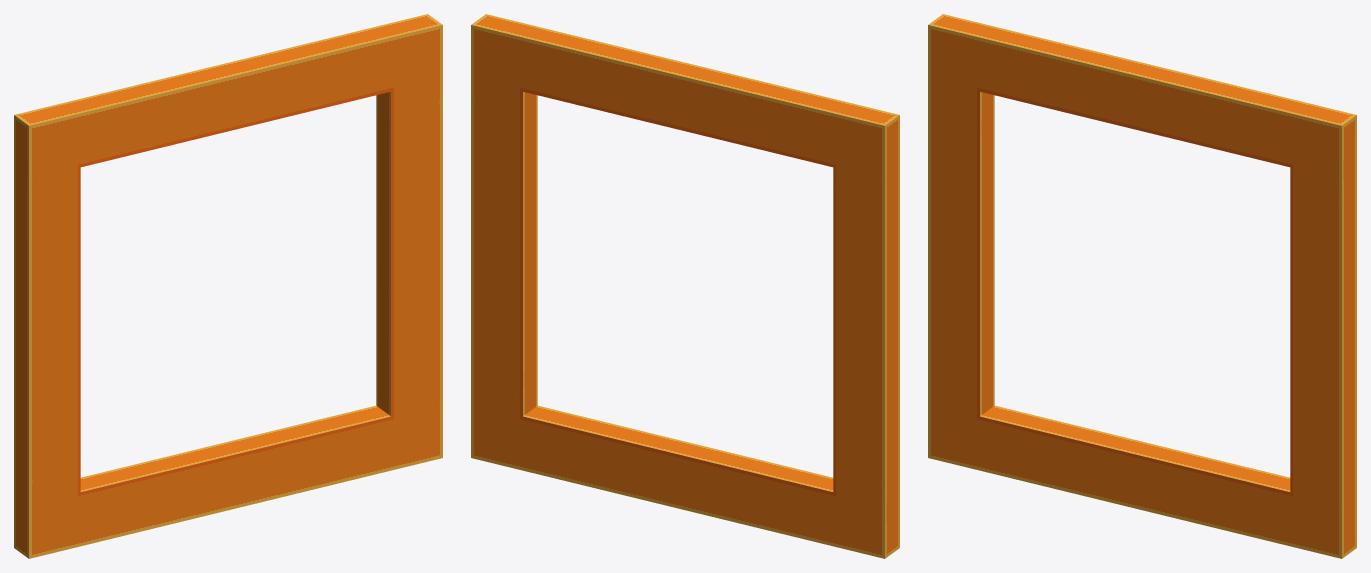
The model's file is stargate_ring_aao.fezao.glb.
3 views of the same model, side by side, from view 1: azimuth 30°, elevation 25°; view 2: azimuth 150°, elevation 25°; view 3: azimuth 330°, elevation 25° (orthographic).
Visible parts, largest first — view 1: STARGATE_RING_AAO; view 2: STARGATE_RING_AAO; view 3: STARGATE_RING_AAO.
Boxes of the visible parts, x1=… form: STARGATE_RING_AAO: x1=14, y1=14, x2=442, y2=558; STARGATE_RING_AAO: x1=471, y1=14, x2=899, y2=558; STARGATE_RING_AAO: x1=928, y1=14, x2=1356, y2=558.
Size of the model in its own units: 8 by 8 by 0.5.
Materials: 1 (1 with a texture image).
